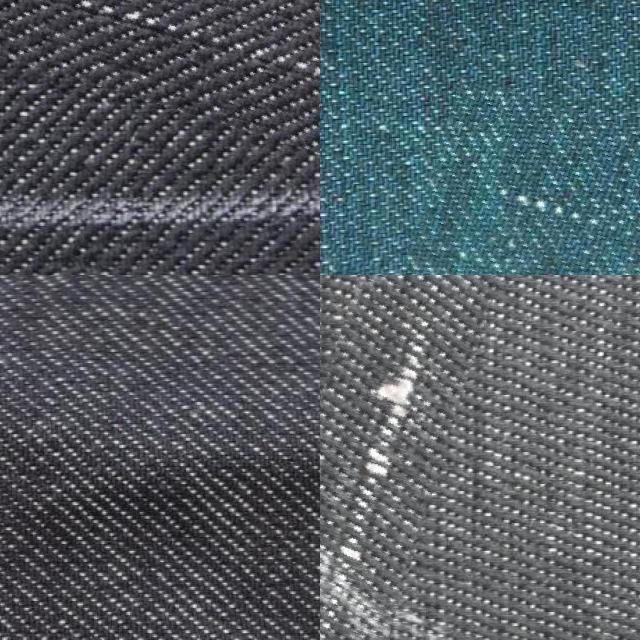Thread_other: (320, 275, 454, 640), (413, 95, 640, 275)
